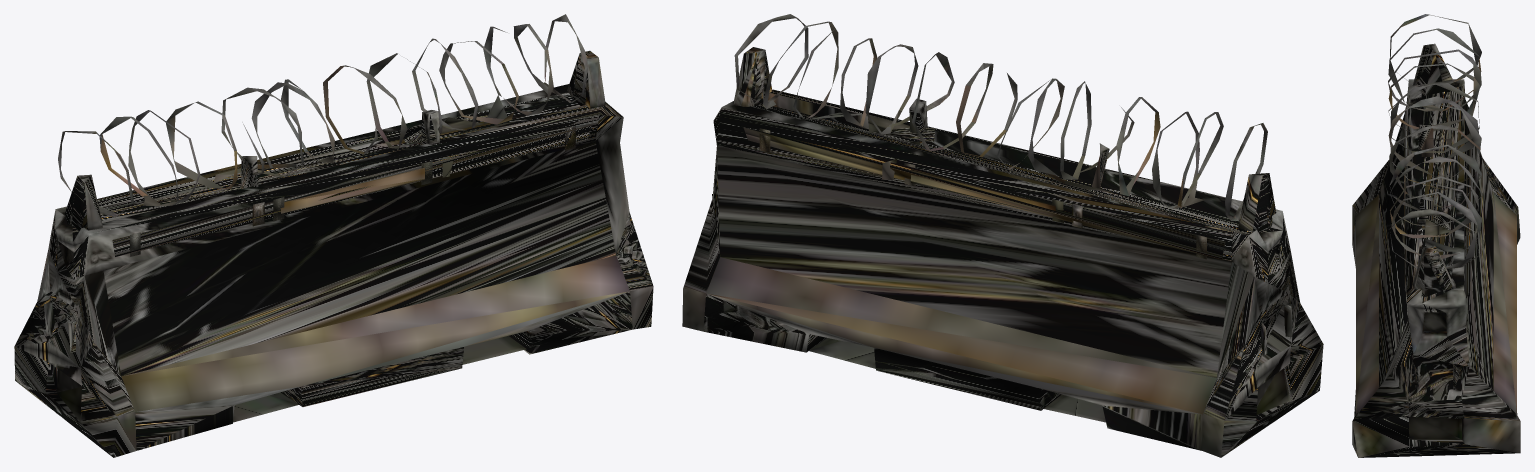
The model's file is barricade.glb.
3 renders of one model, left to right at view 1: azimuth 30°, elevation 25°; view 2: azimuth 150°, elevation 25°; view 3: azimuth 270°, elevation 25°, orthographic. The views are drawn at different scales.
Visible parts, largest first — view 1: geometry_0; view 2: geometry_0; view 3: geometry_0.
Part boxes in pixels (x1=…): geometry_0: x1=14, y1=14, x2=653, y2=457; geometry_0: x1=682, y1=14, x2=1323, y2=457; geometry_0: x1=1352, y1=14, x2=1520, y2=457.
Size of the model in its own units: 0.9409 by 0.471 by 0.3008.
1 material, 1 textured.
